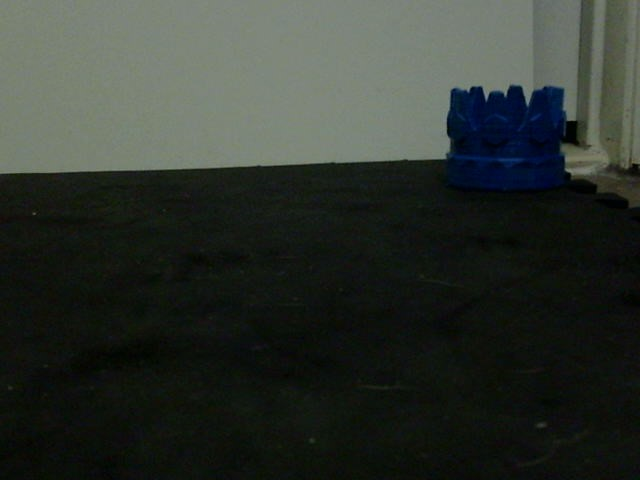crown: (444, 84, 570, 194)
